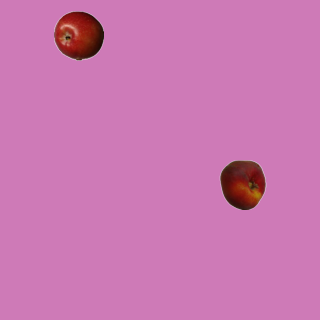Apple Braeburn: (53, 10, 103, 60)
Nectarine Flat: (217, 159, 267, 209)
